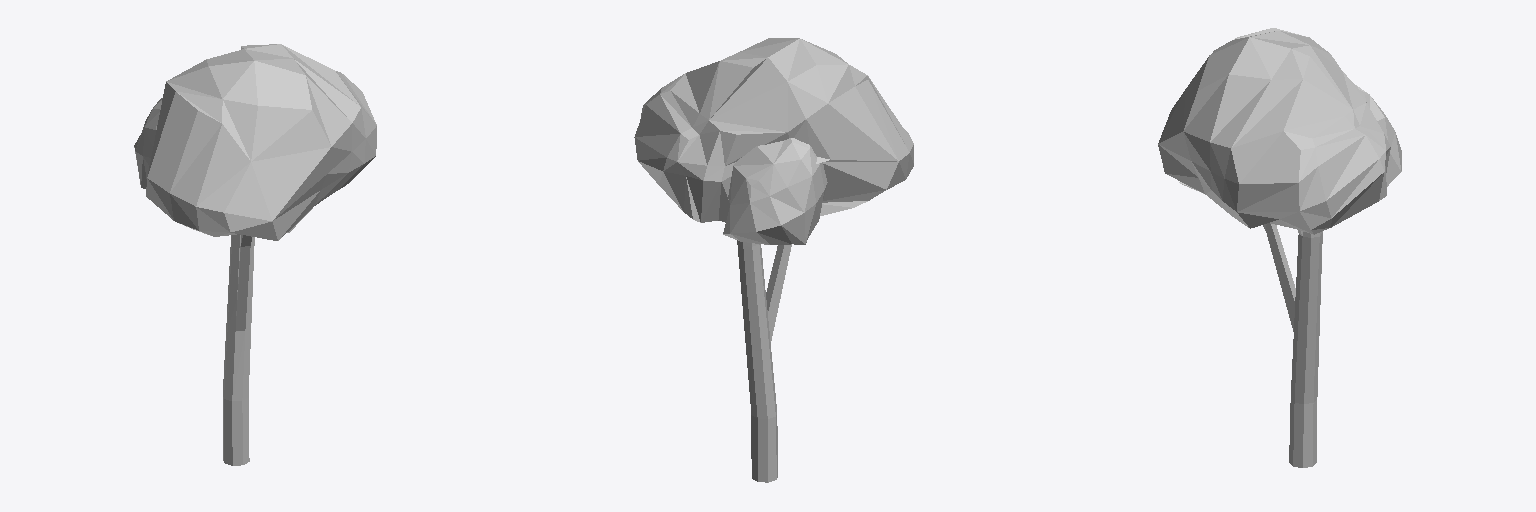
File: WOH_Asset_LongTree.obj
3 views of the same model, side by side, from view 1: azimuth 30°, elevation 25°; view 2: azimuth 150°, elevation 25°; view 3: azimuth 270°, elevation 25° (orthographic).
Visible parts, largest first — view 1: WOH_Asset_LongTree_LongTree; view 2: WOH_Asset_LongTree_LongTree; view 3: WOH_Asset_LongTree_LongTree.
Boxes of the visible parts, x1,y1,x2,y2 form: WOH_Asset_LongTree_LongTree: [134, 44, 376, 465]; WOH_Asset_LongTree_LongTree: [634, 38, 913, 482]; WOH_Asset_LongTree_LongTree: [1158, 28, 1401, 467].
Bounding box in the file's own units: 4.53 × 7.61 × 3.99.